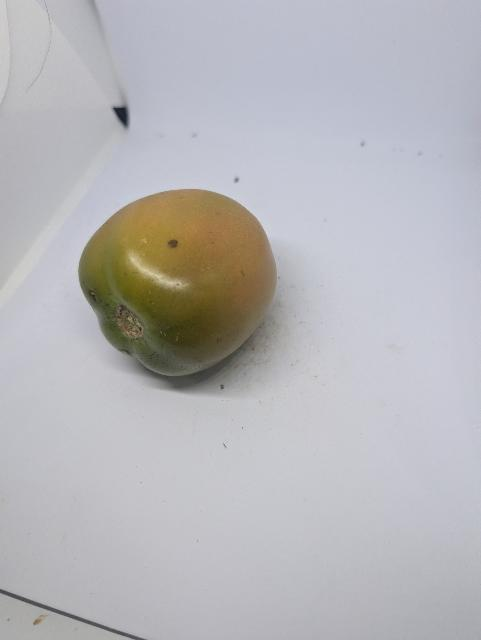turning: (72, 185, 282, 380)
